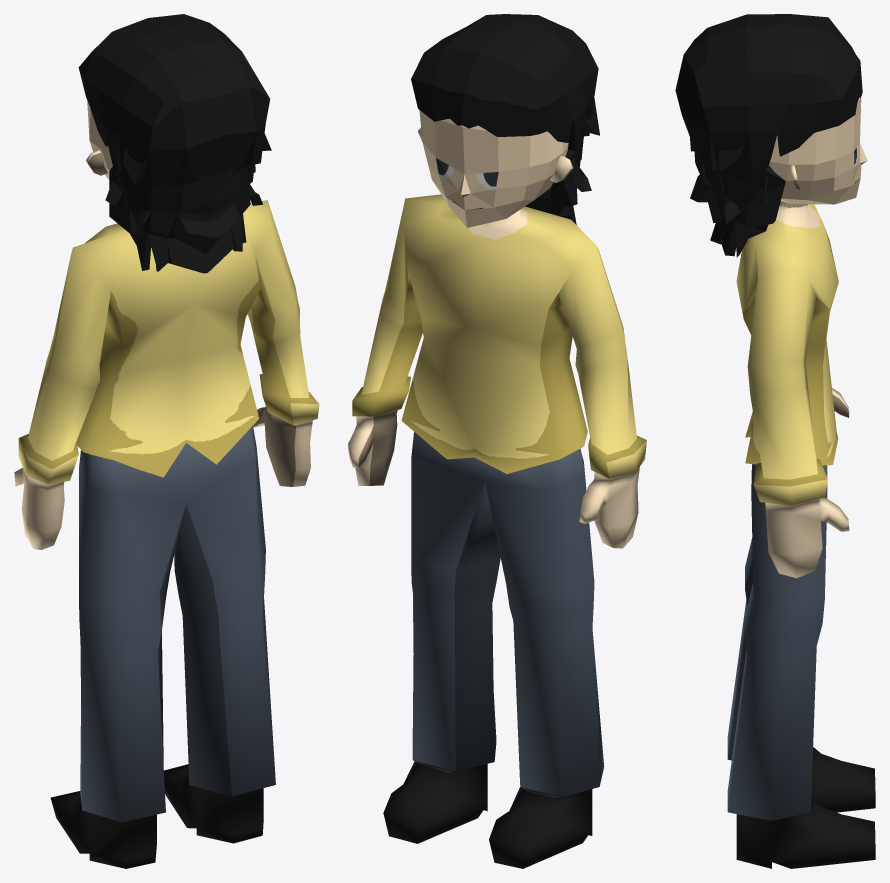
File: M MULLET.glb
The picture shows the model from 3 angles, left to right: view 1: azimuth 30°, elevation 25°; view 2: azimuth 150°, elevation 25°; view 3: azimuth 270°, elevation 25°; orthographic projection. The views are drawn at different scales.
Visible parts, largest first — view 1: MEN OFFICE, MULLET, MAN HEAD; view 2: MEN OFFICE, MULLET, MAN HEAD; view 3: MEN OFFICE, MULLET, MAN HEAD.
Boxes of the visible parts, x1,y1,x2,y2 form: MEN OFFICE: (14, 200, 319, 868); MULLET: (78, 14, 271, 273); MAN HEAD: (87, 101, 112, 179); MEN OFFICE: (348, 194, 646, 868); MULLET: (411, 14, 599, 224); MAN HEAD: (419, 110, 568, 227); MEN OFFICE: (727, 201, 875, 868); MULLET: (675, 14, 862, 257); MAN HEAD: (769, 97, 867, 204).
Size of the model in its own units: 3.32 by 9.06 by 2.05.
Materials: 4 (4 with a texture image).
